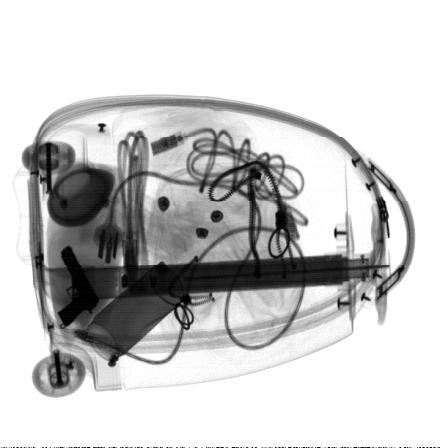Gun: (58, 242, 100, 327)
